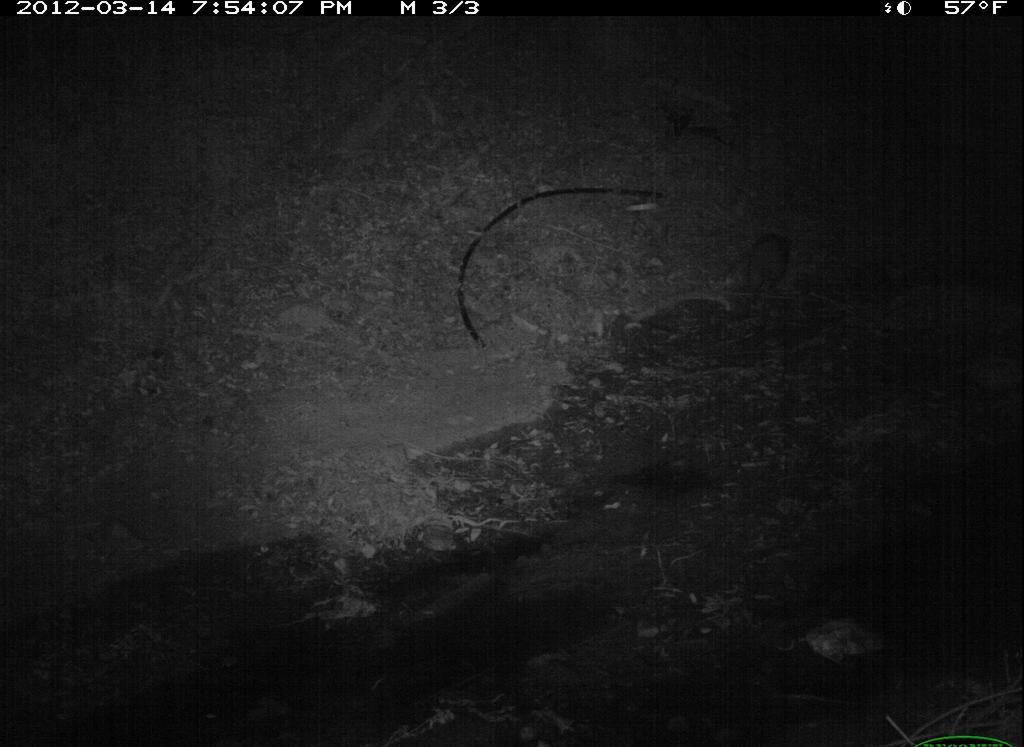opossum: (730, 225, 803, 317)
